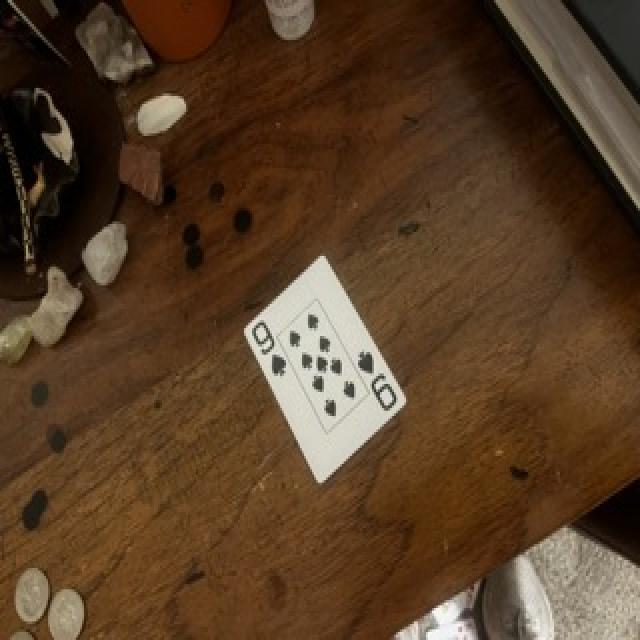9 of spades: (245, 257, 406, 483)
